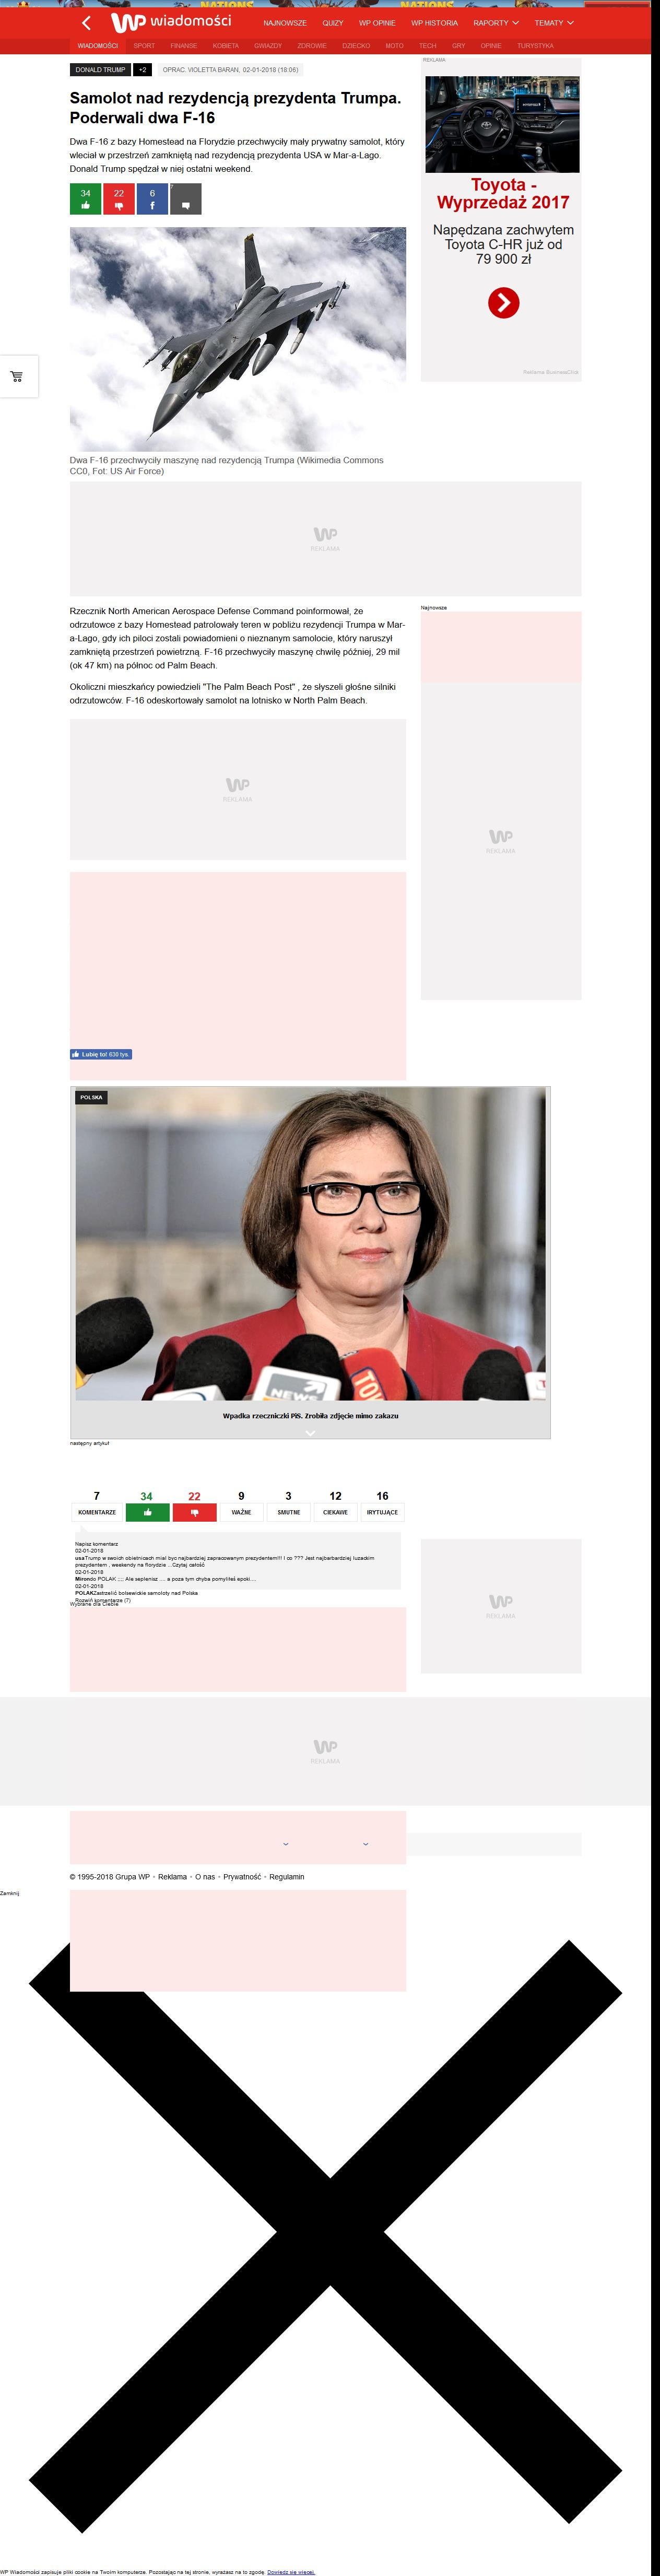title: (71, 90, 401, 125)
